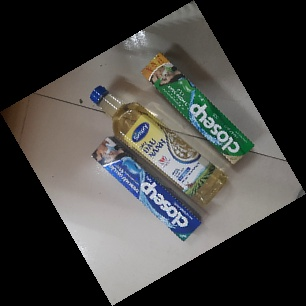CloseUp Tuyet: (91, 136, 203, 244)
CloseUp Xanh: (141, 53, 258, 166)
Simply: (90, 86, 229, 206)
